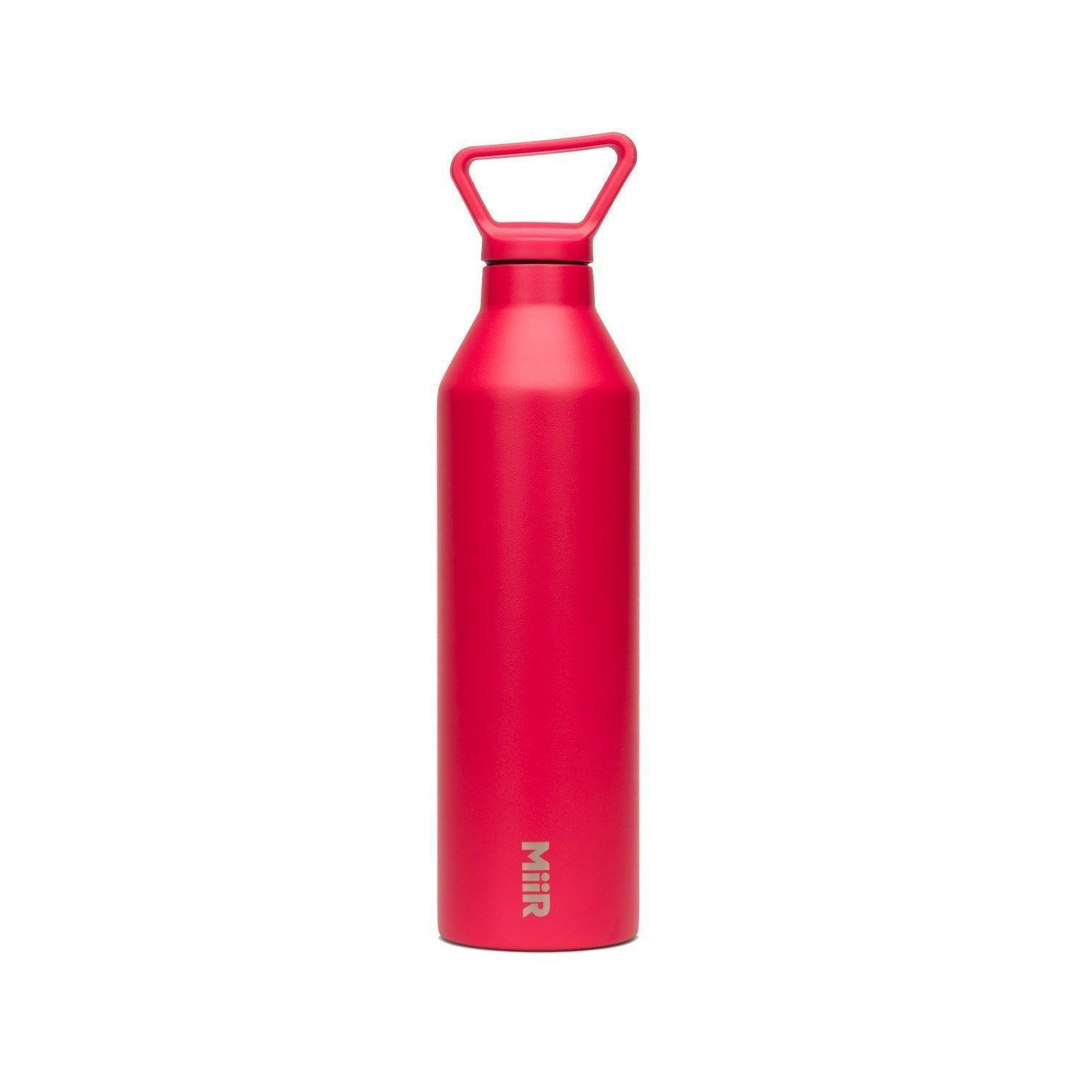gym bottle: (429, 125, 651, 960)
